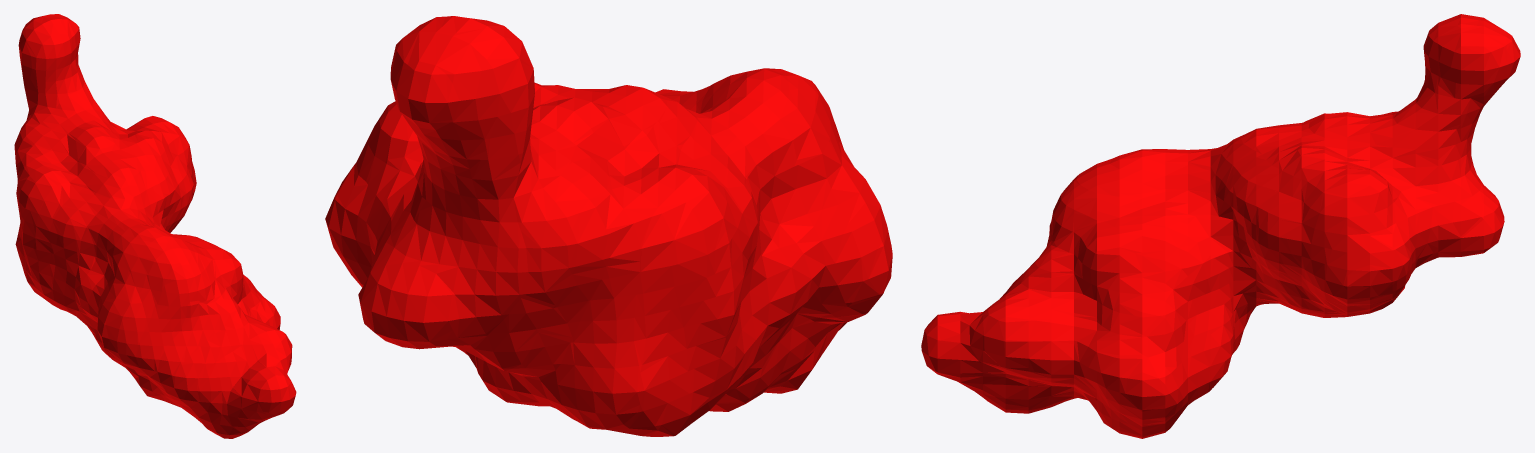
File: sufE_coarse.dae
The picture shows the model from 3 angles, left to right: view 1: azimuth 30°, elevation 25°; view 2: azimuth 150°, elevation 25°; view 3: azimuth 270°, elevation 25°; orthographic projection. The views are drawn at different scales.
Parts seen in each view (by area): view 1: sufE; view 2: sufE; view 3: sufE.
Boxes of the visible parts, x1=… form: sufE: x1=14, y1=14, x2=296, y2=438; sufE: x1=325, y1=16, x2=892, y2=436; sufE: x1=921, y1=14, x2=1520, y2=438.
Bounding box in the file's own units: 43.6 × 65.98 × 92.56.
